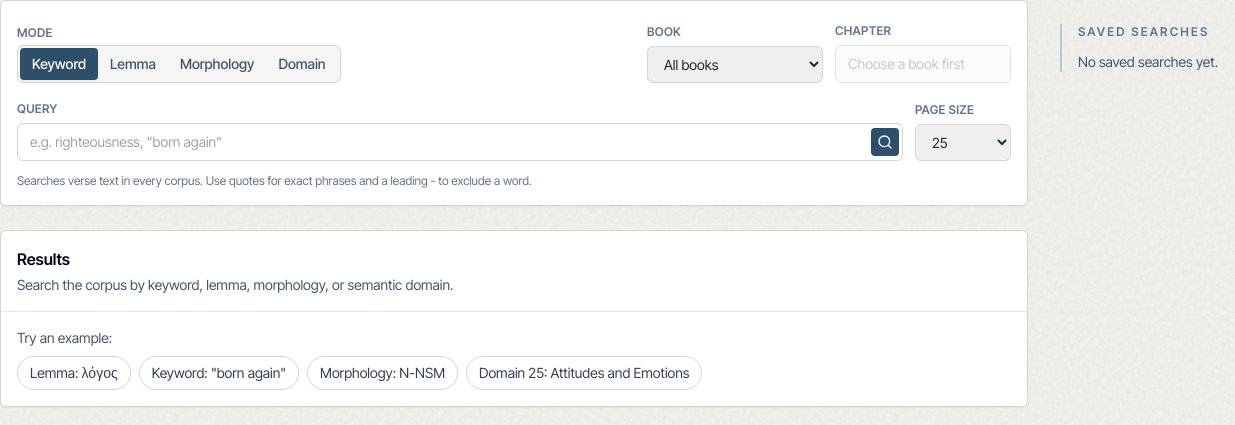
SearchPanel mode control › shows domain filters when Domain mode is selected
This screenshot has width=1235, height=425.
Click the radio button labelled "Domain".
click(302, 64)  # box [278,55,326,72]
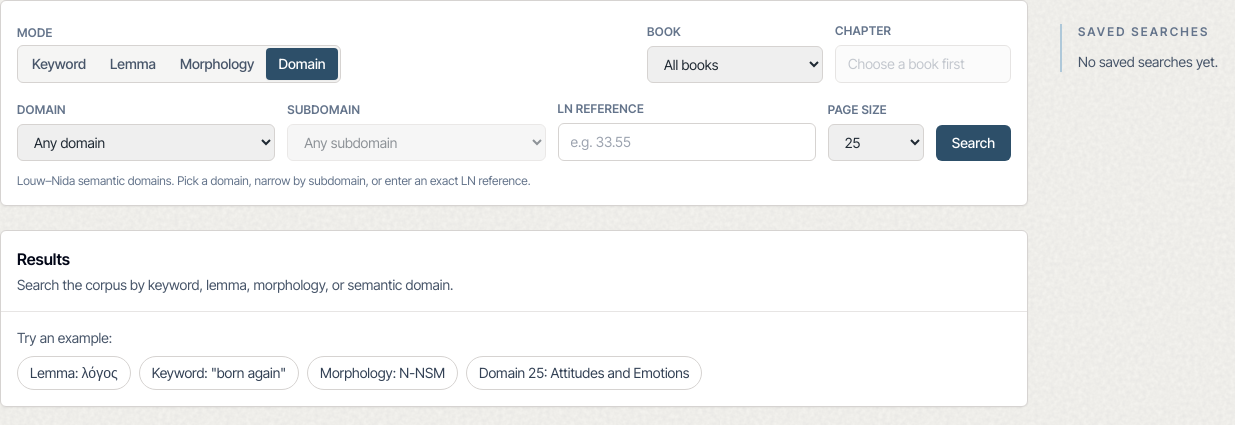
Expected: the dropdown labelled "Domain" is shown, [17,124,275,161]
Expected: the dropdown labelled "Subdomain" is shown, [287,124,546,161]
